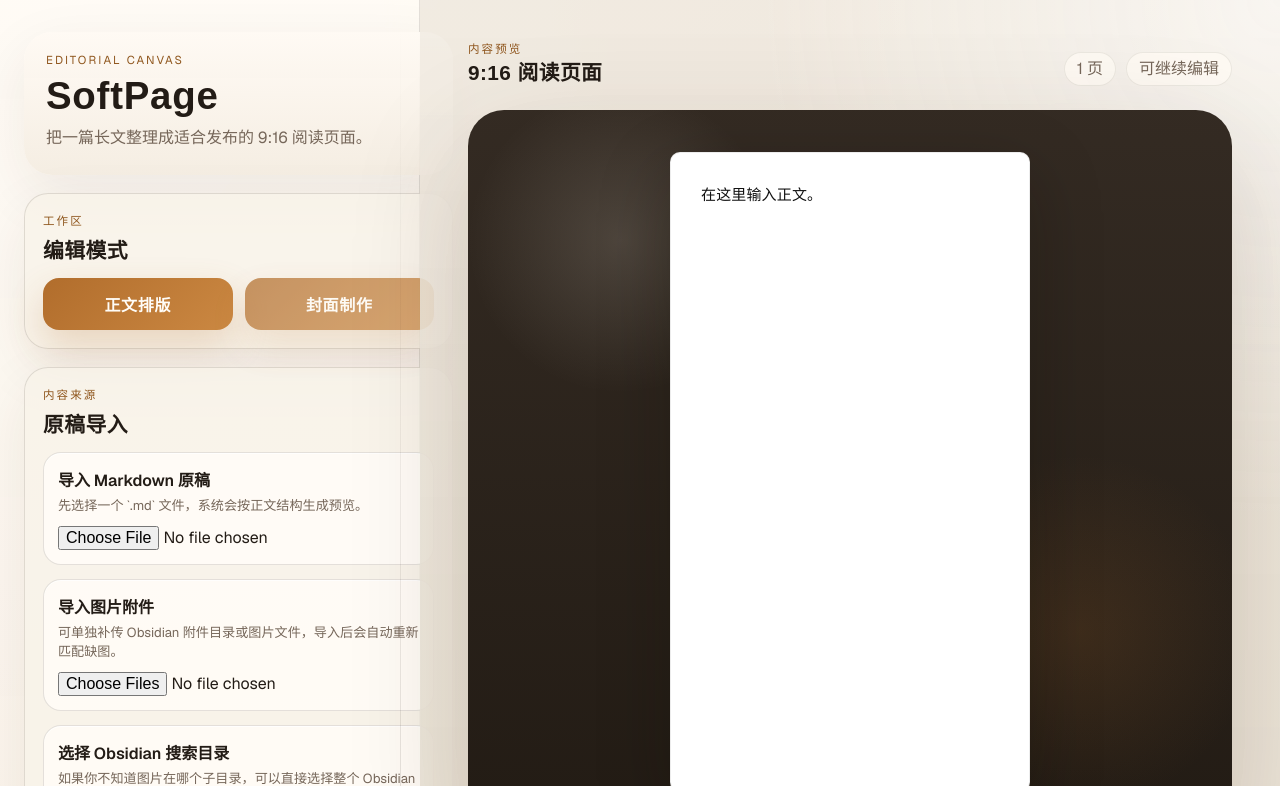
switches to cover mode and shows cover controls
Click the button "封面制作" at {"x": 339, "y": 304}, box [244,278,434,330]
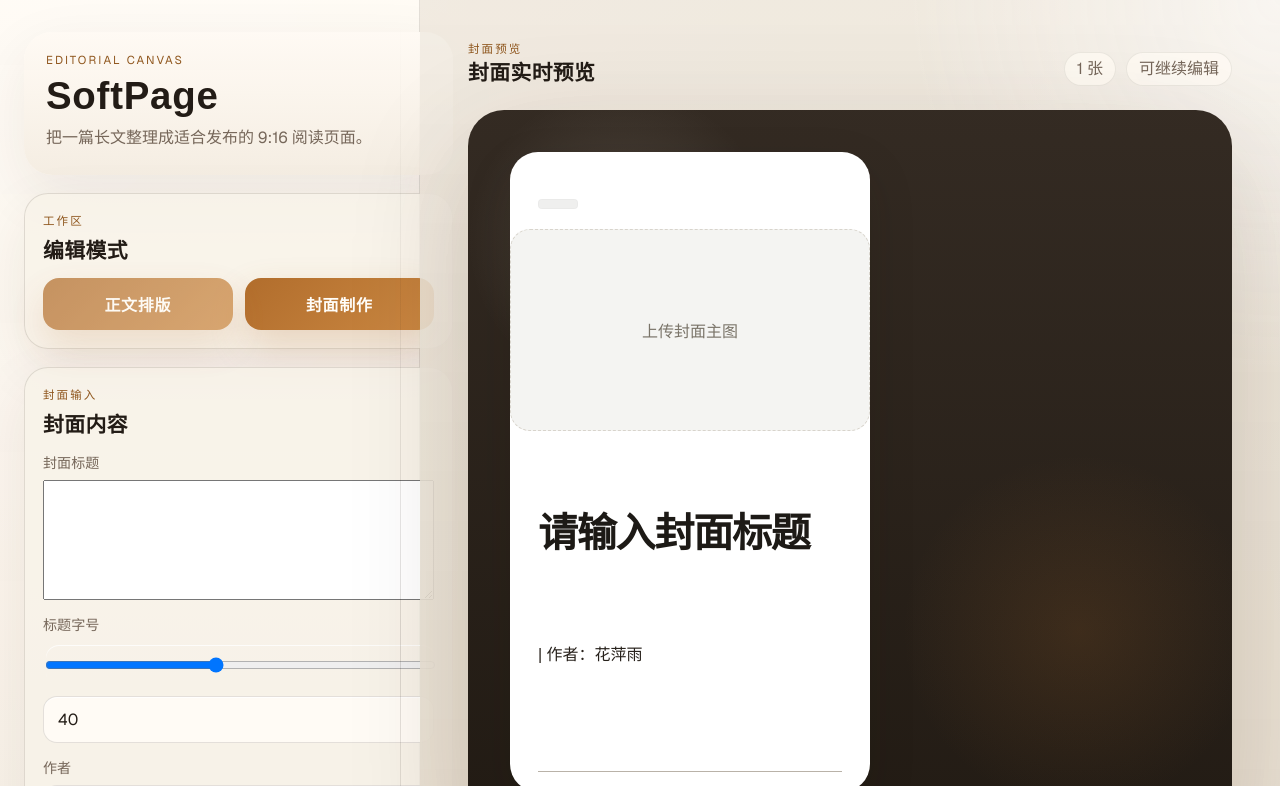
Result: the text box labelled "封面标题" is shown at [43,480,434,600]
Result: the slider labelled "标题字号" is shown at [45,644,436,686]
Result: the number field named "标题字号数值" is shown at [43,696,434,743]
